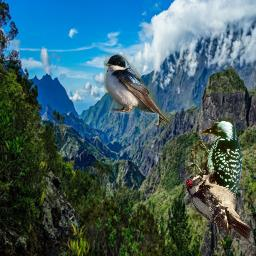Swallow: (104, 54, 173, 132)
Woodpecker: (185, 118, 242, 214), (185, 172, 250, 239)
